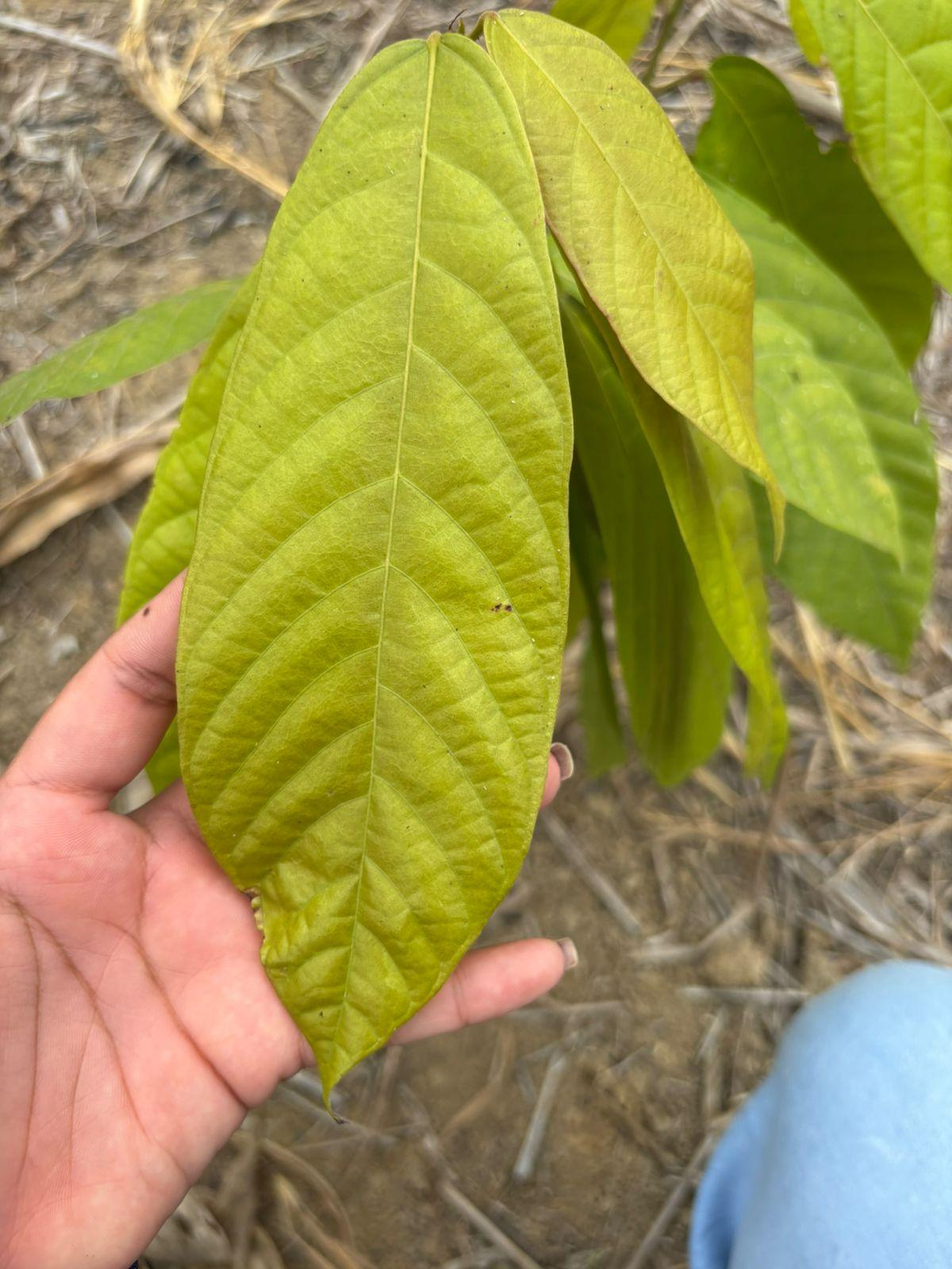deficiencia_nitrogeno: (178, 34, 571, 1086), (485, 10, 782, 537)
